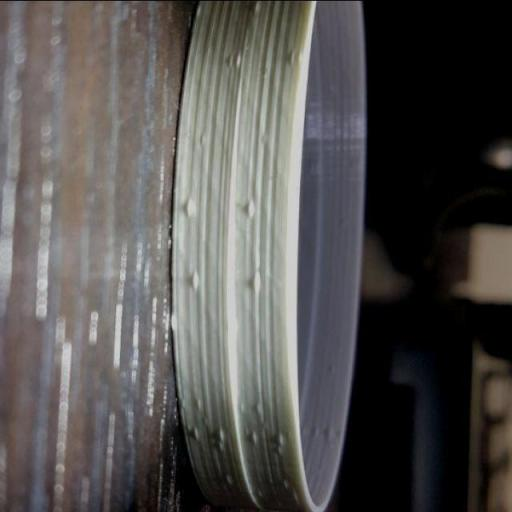blobs: (182, 196, 200, 220), (188, 268, 206, 292), (246, 269, 264, 292), (246, 426, 265, 446), (241, 195, 257, 216), (269, 428, 286, 446), (227, 50, 243, 68), (223, 472, 239, 490), (215, 425, 230, 443), (322, 423, 336, 442), (190, 425, 205, 441), (307, 423, 322, 439), (252, 400, 264, 417), (247, 0, 263, 11)
